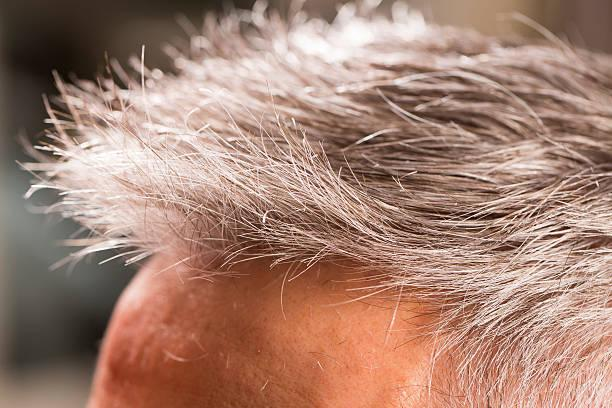dry hair: (388, 189, 527, 244), (223, 128, 329, 199)
